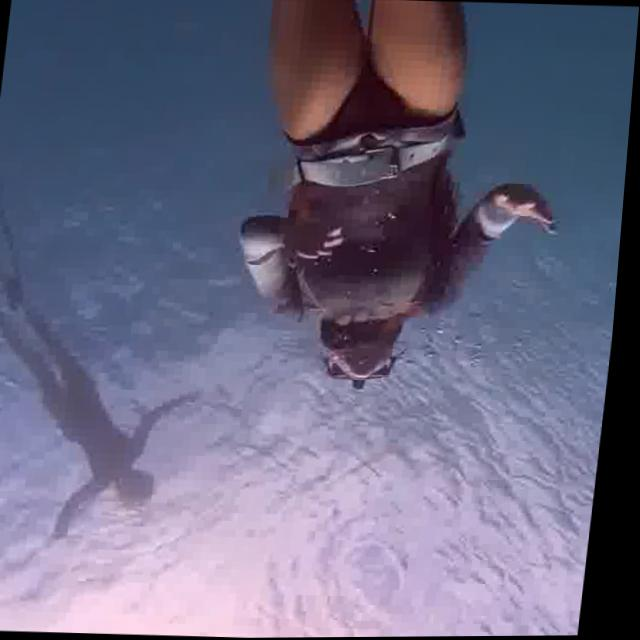human: (211, 0, 581, 414), (0, 267, 224, 558)
